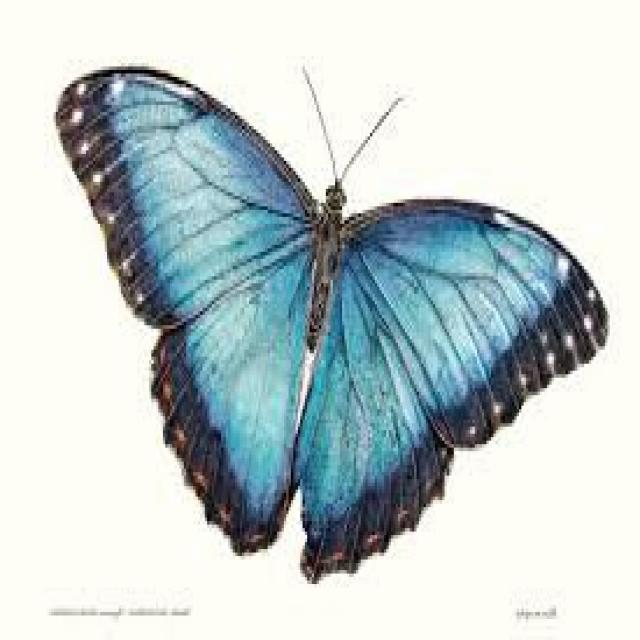butterfly: (58, 66, 607, 577)
